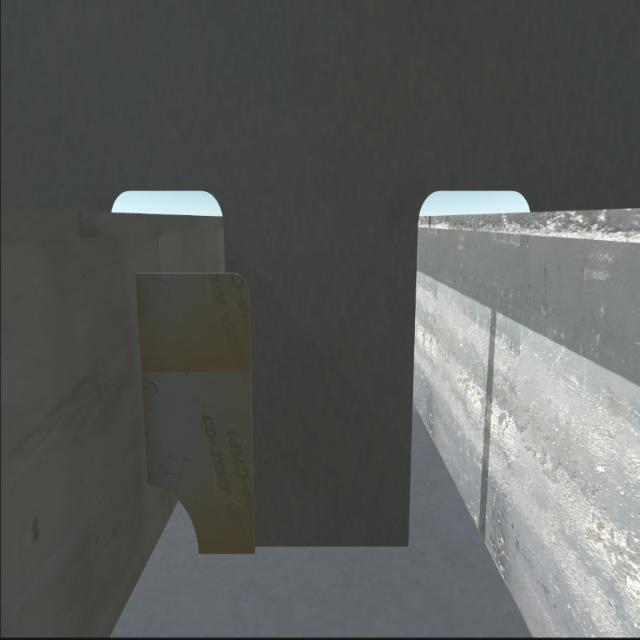fillet_hole: (149, 485, 202, 553)
fillet_yong_jeop_jang: (190, 531, 418, 561)
longi_yong_jeop_jang: (132, 273, 160, 493)
plate_CP05: (136, 276, 256, 554)
